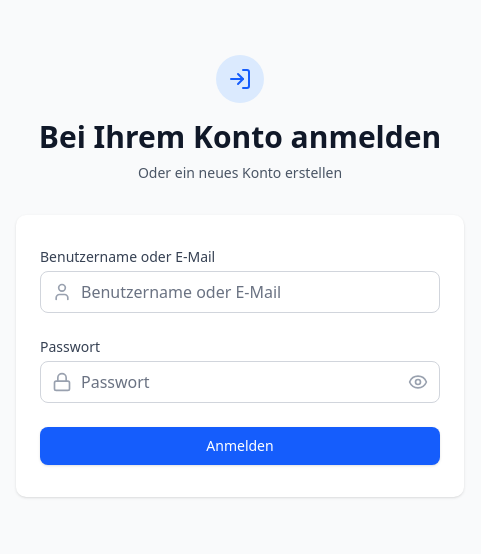
Test: Login Page › handles unexpected errors
This screenshot has width=481, height=554.
In the field with placeholder "Benutzername oder E-Mail": (240,292) [40,271,440,313], type "testuser"
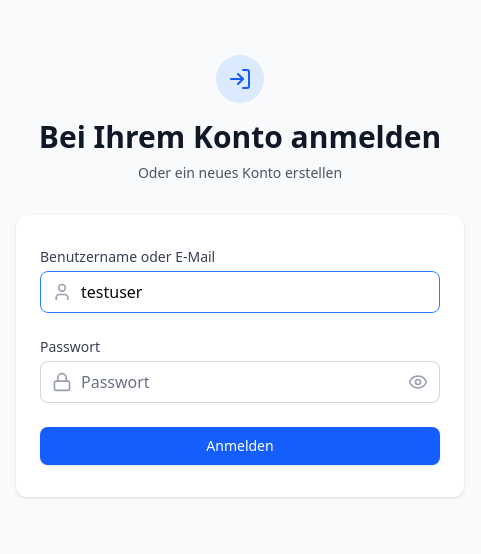
In the password field with placeholder "Passwort": (240,382) [40,361,440,403], type "testpassword"
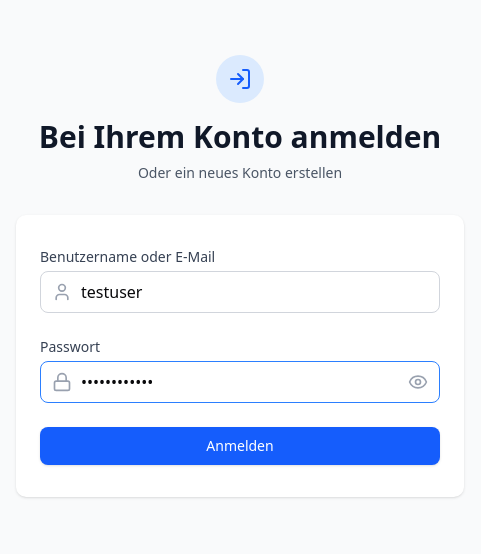
Click the button "Anmelden": (240,446) [40,427,440,465]
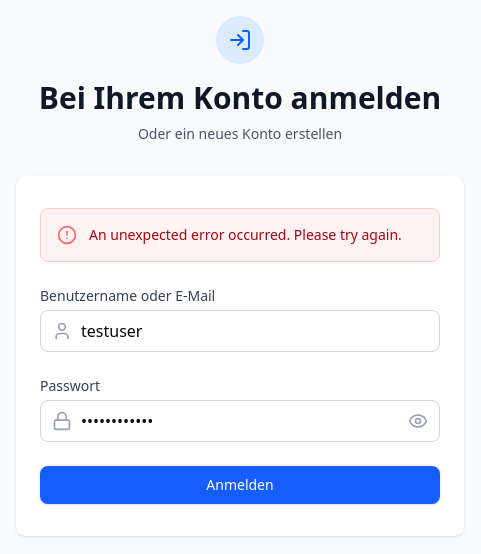
Result: the text "An unexpected error occurred. Please try again." is shown at [89,225,402,245]
